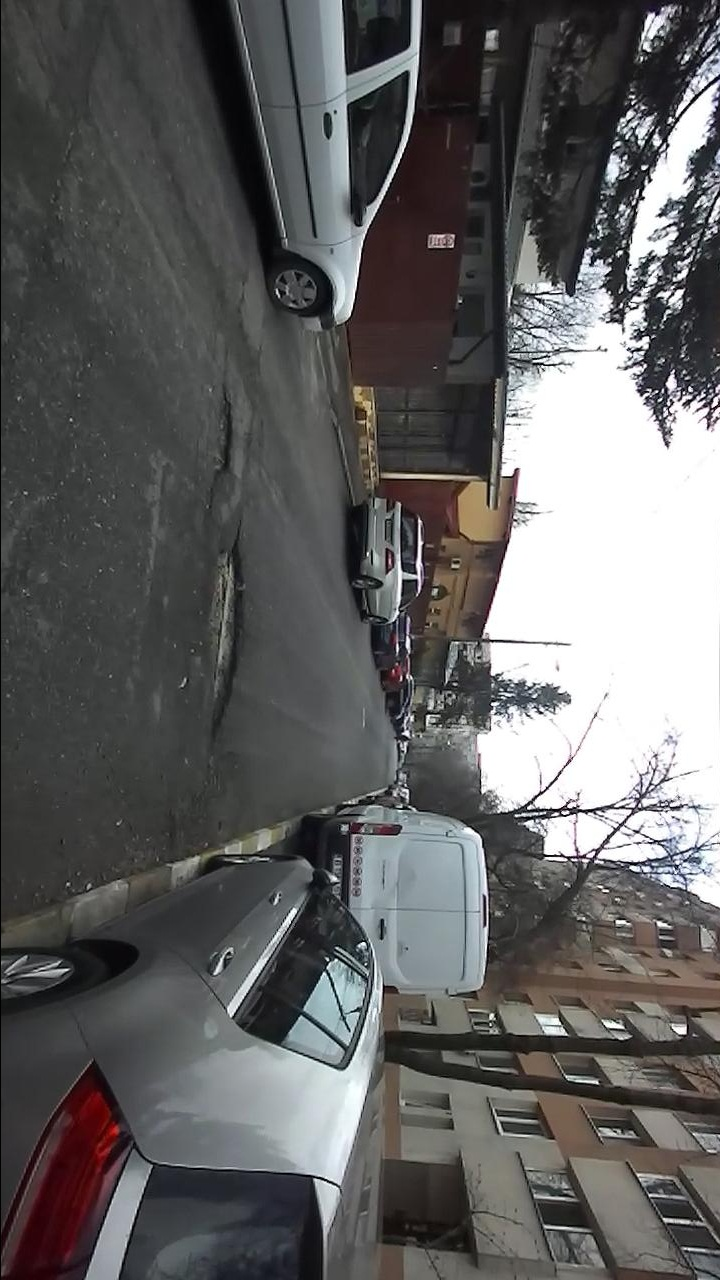pothole: (198, 519, 249, 753), (205, 380, 237, 512)
